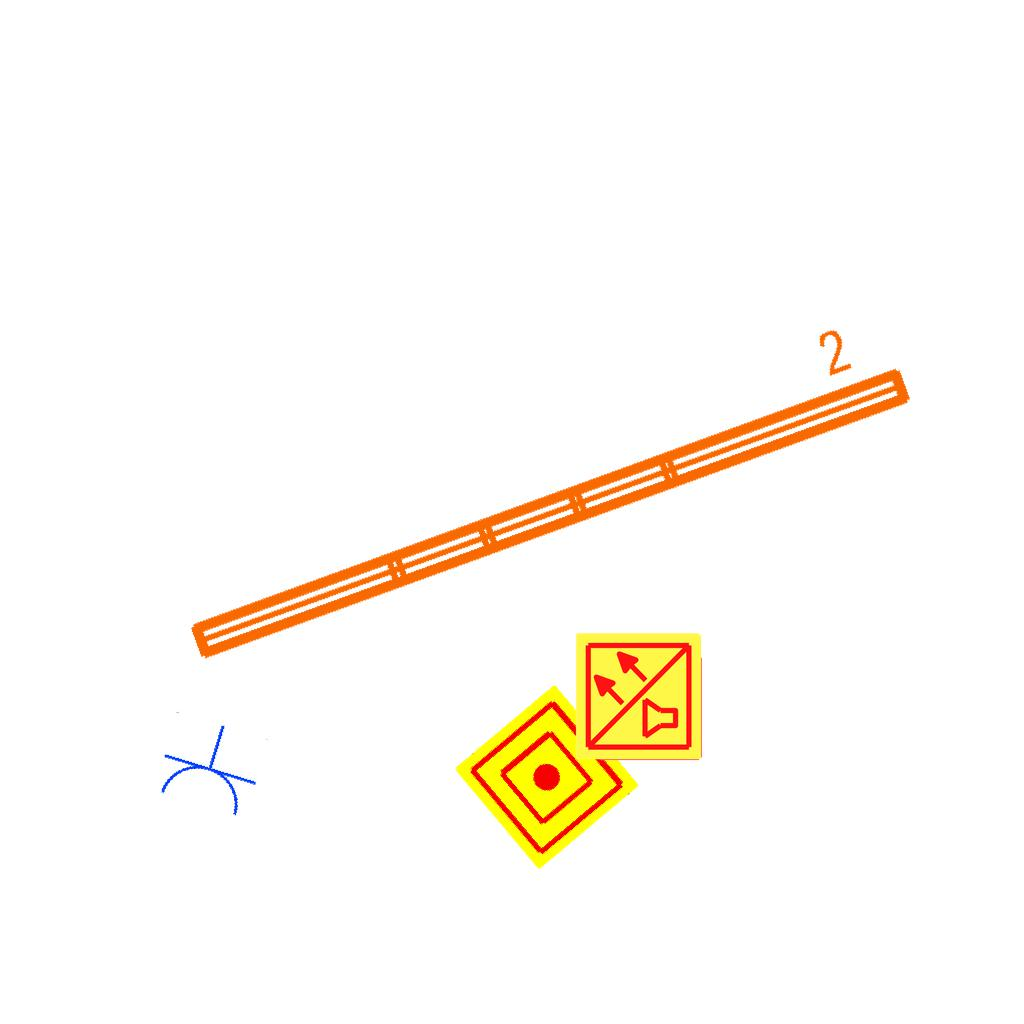Ambulanz_Pendelleuchte_LED: (158, 305, 924, 675)
NAM-Nichtautomatischer_Melder: (454, 684, 640, 870)
OKW_Multisensormelder_(Kombination_optischer_Rauch-Kahlenmonoxid_Waerme-Melder): (573, 630, 705, 762)
Schukosteckdose_einfach: (149, 710, 271, 823)
